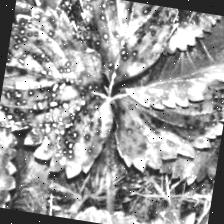Leaf Spot: (0, 0, 132, 185), (100, 39, 224, 184), (62, 0, 187, 99), (0, 78, 34, 210), (154, 7, 222, 62), (26, 0, 107, 27)
